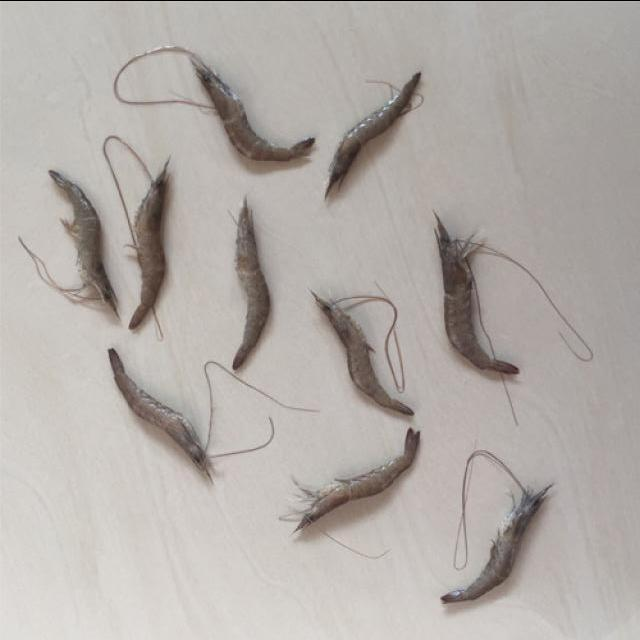shrimp: (108, 349, 211, 479), (437, 214, 519, 374), (294, 429, 420, 532), (191, 55, 314, 160), (313, 292, 414, 415), (445, 488, 552, 604), (327, 72, 420, 198), (49, 169, 117, 315), (130, 159, 168, 329), (233, 198, 269, 370)
